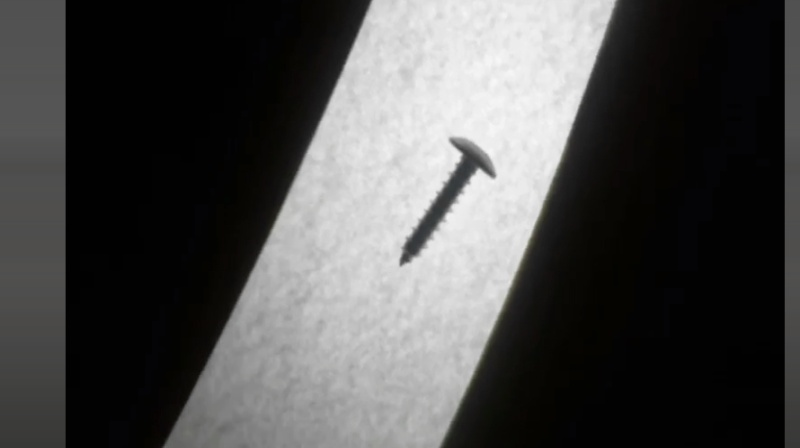S003: (393, 131, 501, 271)
